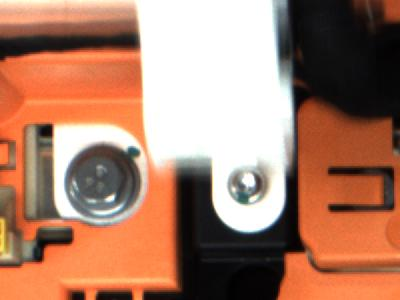nut_b: (62, 142, 138, 220)
